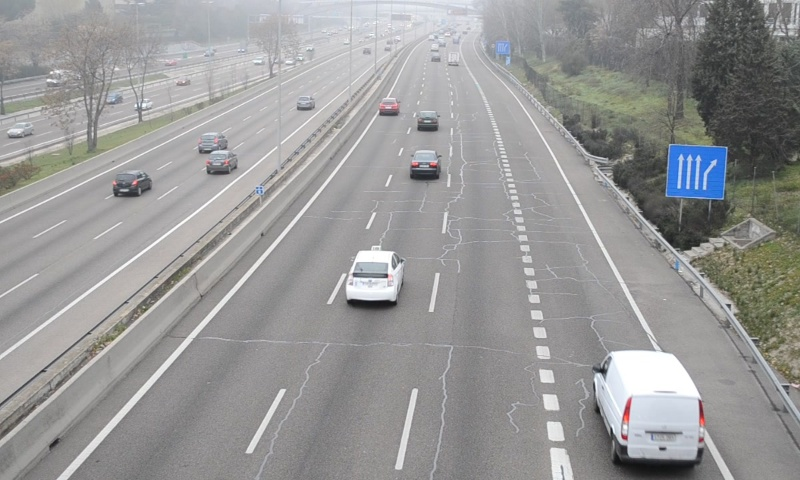car: (347, 251, 400, 302), (410, 148, 440, 176), (416, 110, 438, 130), (378, 97, 398, 115)
van: (593, 350, 706, 466)
